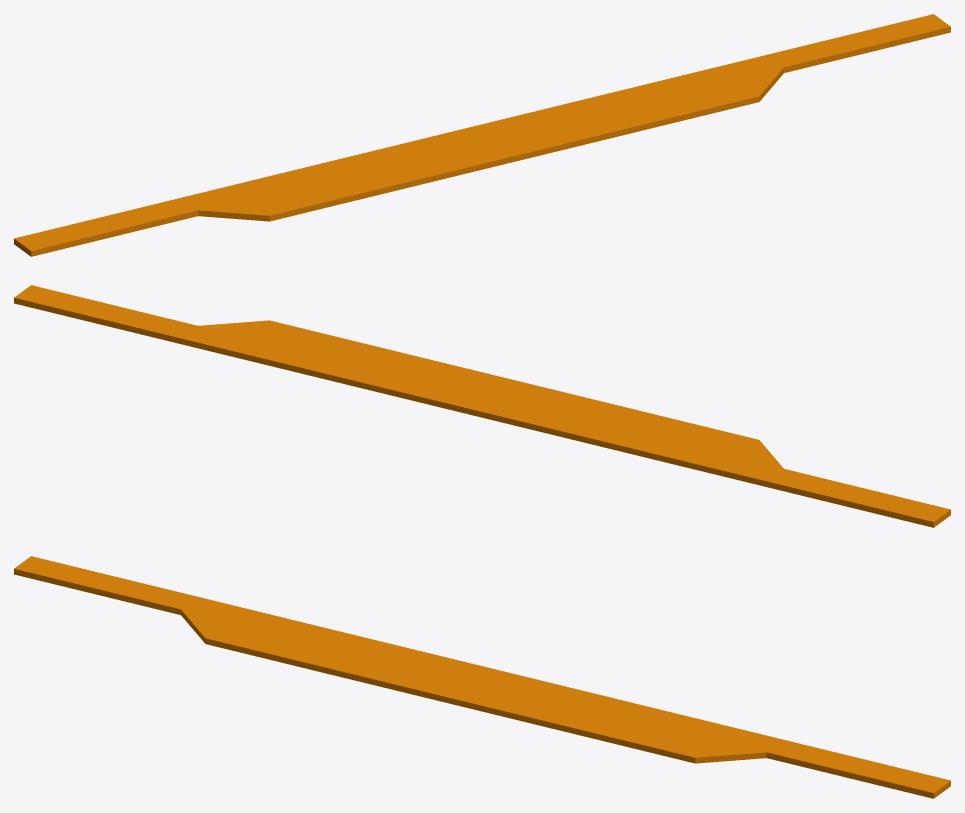
The model's file is LPSciFi_FloorMarkerEdge.fbx.
3 views of the same model, one above another, from view 1: azimuth 30°, elevation 25°; view 2: azimuth 150°, elevation 25°; view 3: azimuth 330°, elevation 25° (orthographic).
Visible parts, largest first — view 1: FloorMarkerEdge; view 2: FloorMarkerEdge; view 3: FloorMarkerEdge.
Boxes of the visible parts, x1,y1,x2,y2 form: FloorMarkerEdge: [14, 14, 950, 256]; FloorMarkerEdge: [14, 285, 950, 527]; FloorMarkerEdge: [14, 556, 950, 798].
Bounding box in the file's own units: 400 × 2.4 × 30.64.
